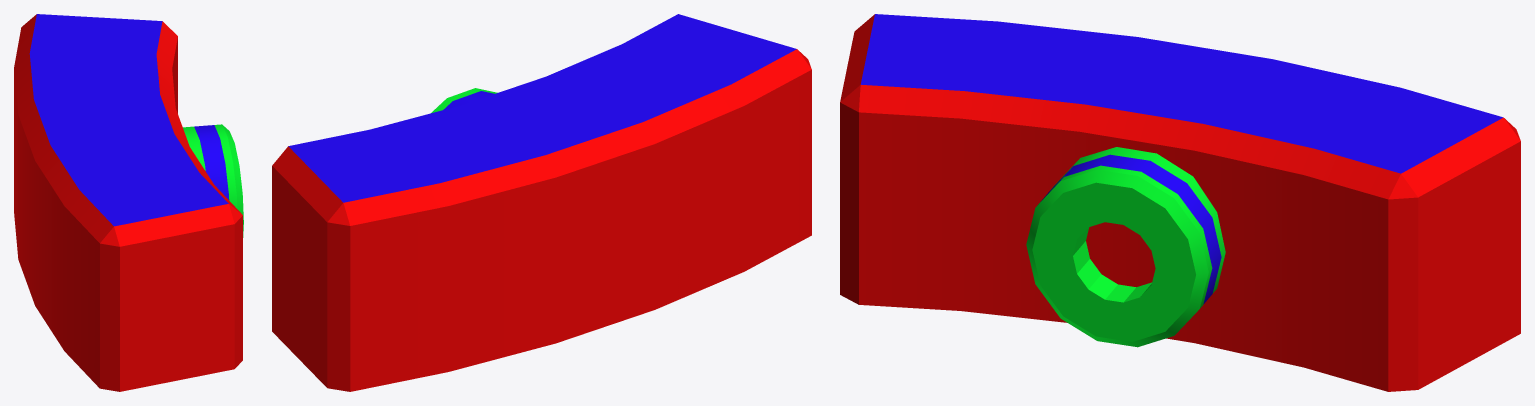
File: SM_Emitter.fbx
3 views of the same model, side by side, from view 1: azimuth 30°, elevation 25°; view 2: azimuth 150°, elevation 25°; view 3: azimuth 270°, elevation 25° (orthographic). The views are drawn at different scales.
Visible parts, largest first — view 1: Cylinder001; view 2: Cylinder001; view 3: Cylinder001.
Boxes of the visible parts, x1,y1,x2,y2 form: Cylinder001: (14,14,243,391); Cylinder001: (272,14,811,391); Cylinder001: (840,14,1520,391).
Bounding box in the file's own units: 53.42 × 30 × 87.61.
